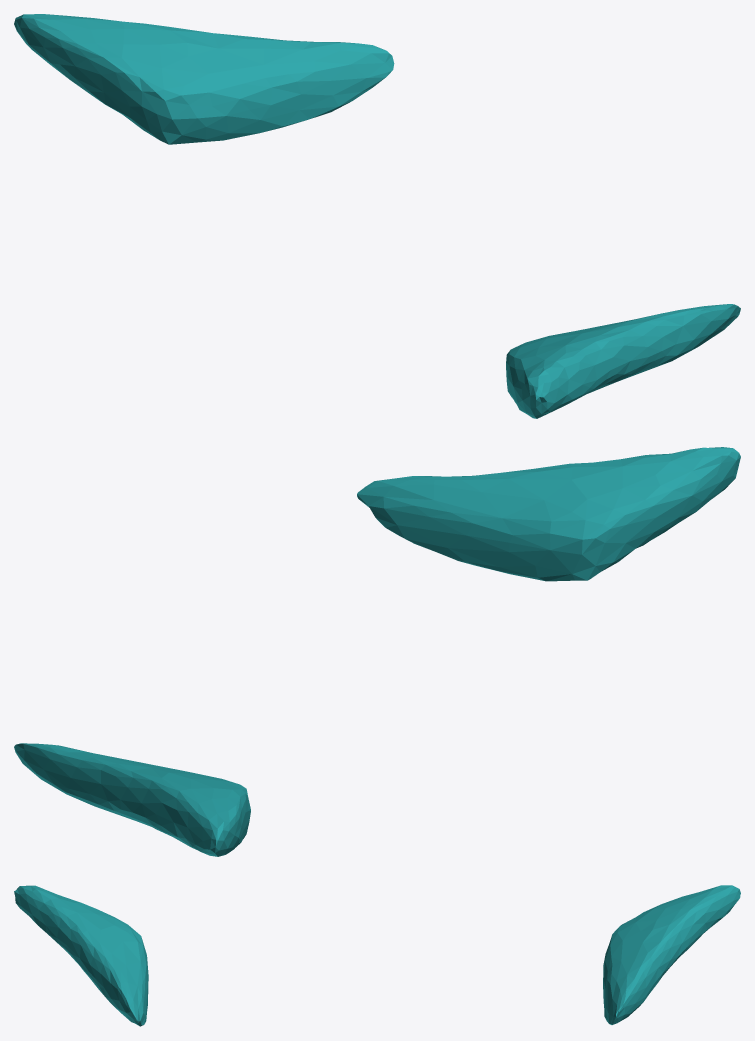
The picture shows the model from 3 angles, top to bottom: view 1: azimuth 30°, elevation 25°; view 2: azimuth 150°, elevation 25°; view 3: azimuth 270°, elevation 25°; orthographic projection. The views are drawn at different scales.
Parts seen in each view (by area): view 1: 565.obj; view 2: 565.obj; view 3: 565.obj.
Boxes of the visible parts, x1,y1,x2,y2 form: 565.obj: (14, 14, 740, 418); 565.obj: (14, 447, 740, 856); 565.obj: (14, 885, 740, 1026).
Size of the model in its own units: 1435 by 445 by 4398.
